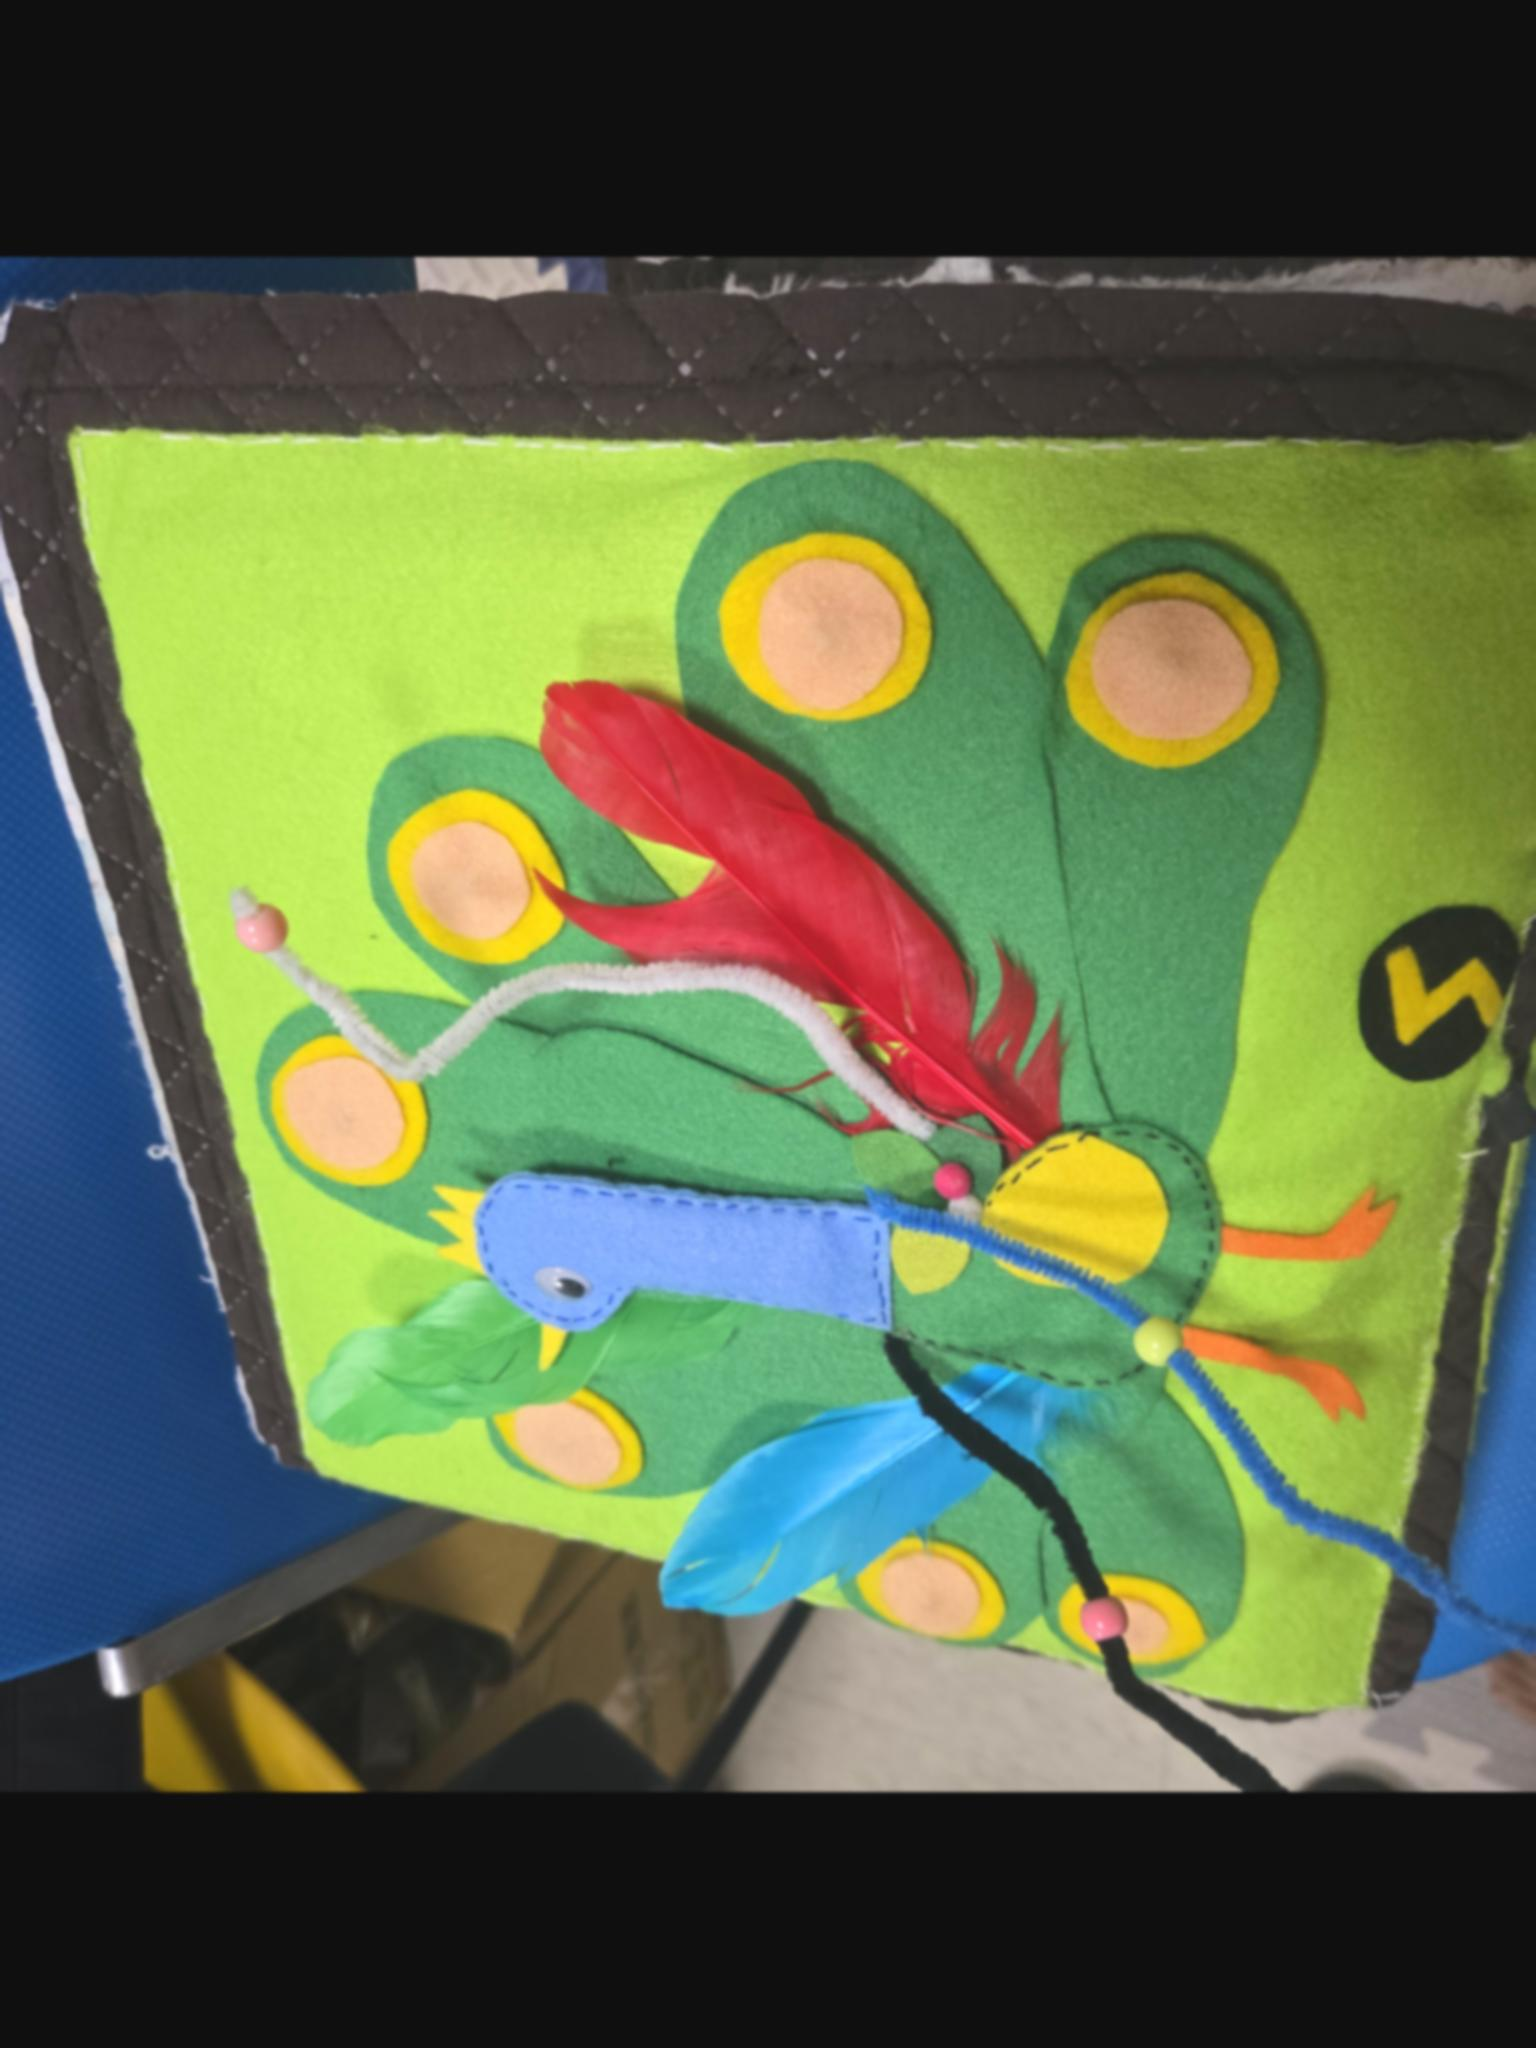bead: (216, 856, 311, 963), (1107, 1306, 1207, 1377), (1062, 1585, 1142, 1658)
